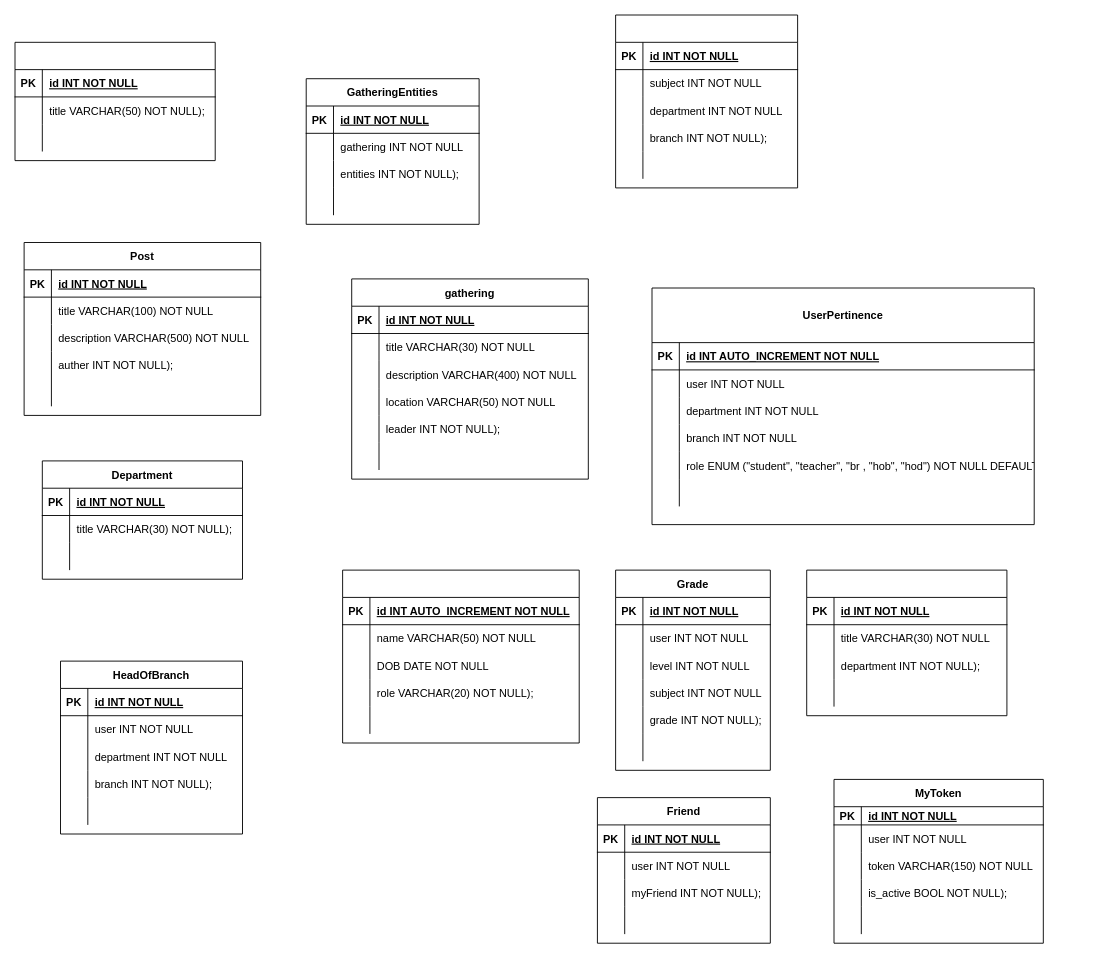
This 1098x958 diagram has some shape labels left out. The box of each missing label's shape, as (x1, y1, x2, y2) in pixels:
Branch: (806, 569, 1007, 716)
Subject: (14, 41, 215, 161)
SubjectPertinence: (615, 14, 798, 188)
User: (342, 569, 579, 743)
